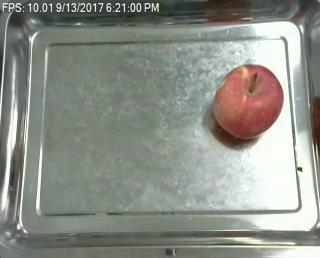apple: (211, 64, 284, 140)
